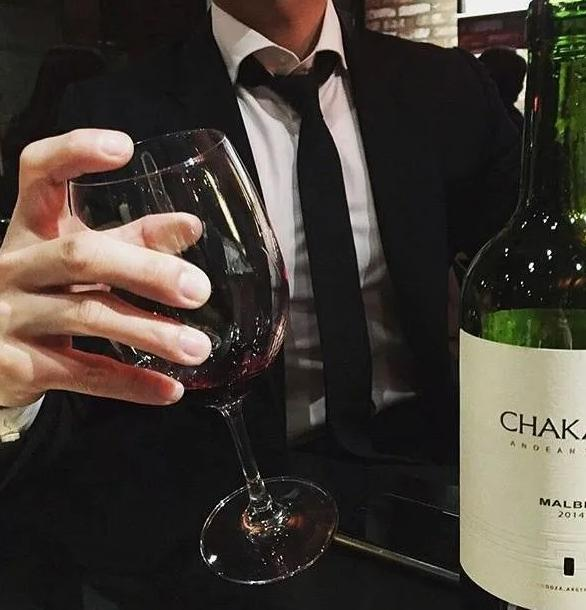wine bottle: (456, 0, 586, 610)
wine label: (457, 326, 586, 610)
